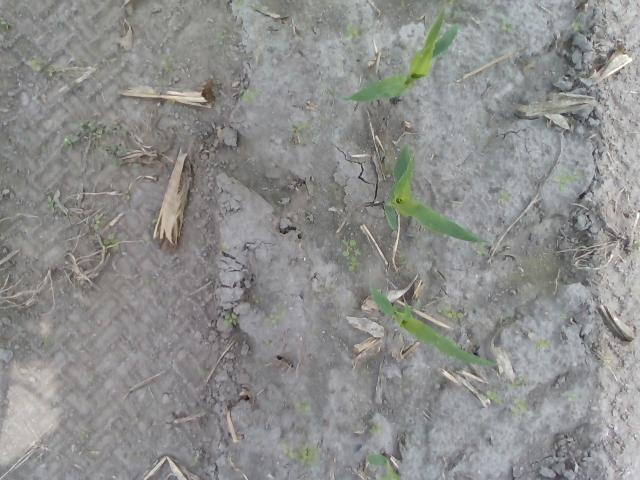Maize: (327, 4, 459, 104), (369, 282, 500, 368), (384, 146, 491, 246), (366, 454, 403, 480)
Weeds: (62, 122, 140, 169), (280, 444, 316, 466), (343, 239, 361, 273), (47, 197, 72, 221), (553, 172, 582, 192), (24, 60, 55, 76), (355, 422, 381, 438), (508, 398, 526, 420), (102, 234, 119, 252), (83, 215, 101, 232), (239, 88, 259, 103), (442, 308, 466, 320), (486, 388, 502, 405), (502, 15, 516, 34), (295, 398, 313, 412), (346, 24, 360, 42), (222, 312, 236, 329), (534, 337, 553, 349), (508, 376, 524, 390), (287, 121, 307, 131), (0, 14, 12, 29), (190, 450, 200, 468), (498, 188, 511, 200), (265, 314, 279, 324), (43, 337, 53, 349), (568, 22, 582, 30), (215, 29, 226, 39), (162, 57, 172, 68), (250, 294, 260, 304), (42, 146, 52, 156), (234, 0, 246, 8), (398, 252, 406, 264), (144, 234, 152, 244), (122, 192, 132, 200), (570, 393, 578, 403), (220, 244, 230, 251)
